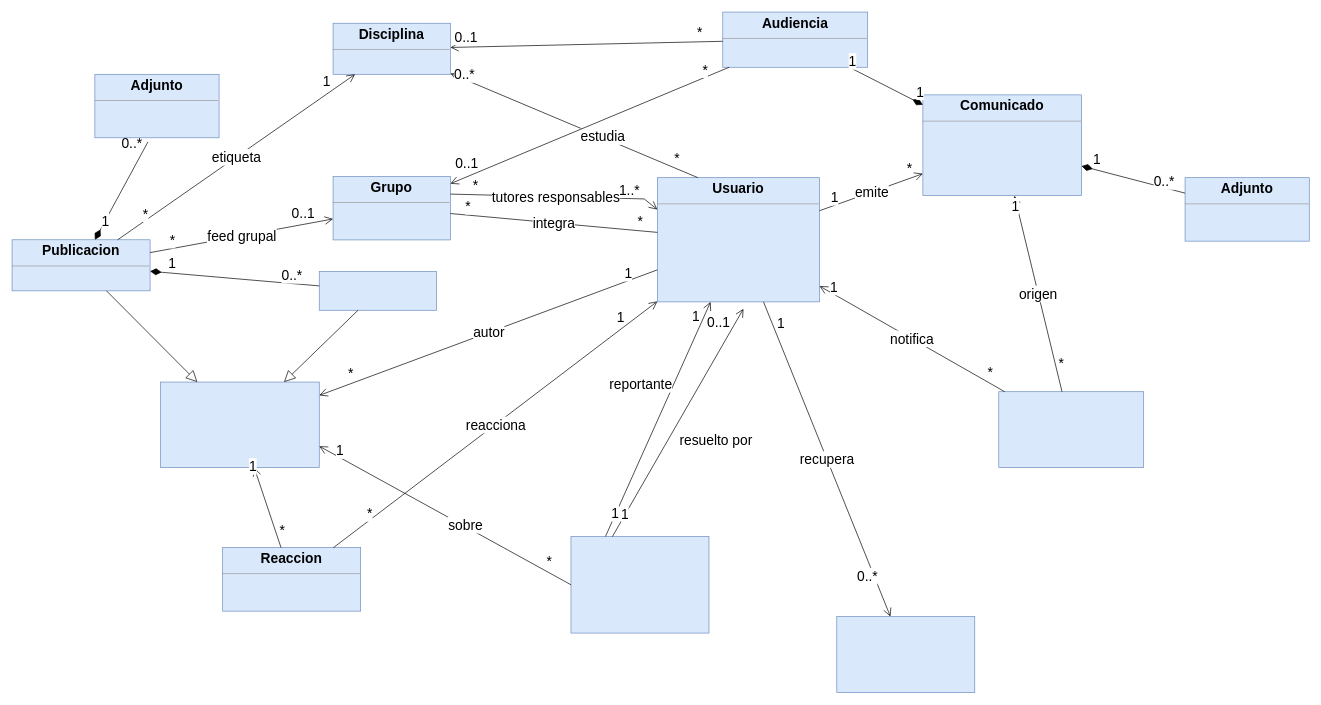
The diagram is 1321 pixels wide and 705 high, and some of its shapes have lost their labels. The centre of each missing label's shape, as x and y in pixels:
"Comentario" goes at (378,290).
"Notificacion" goes at (1071,429).
"Reporte" goes at (639,584).
"TokenRecuperacion" goes at (905,654).
"«abstracta» Contenido" goes at (239,424).
